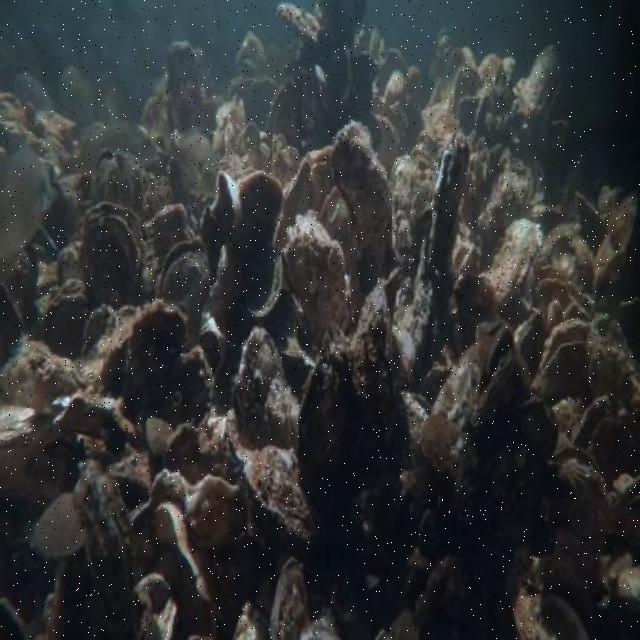Oyster-Closed: (73, 463, 137, 640), (296, 323, 354, 491), (331, 122, 391, 282), (240, 447, 317, 568), (284, 215, 348, 346), (232, 327, 297, 453), (353, 279, 397, 445), (128, 302, 183, 411), (148, 348, 213, 430), (485, 220, 544, 306), (553, 459, 610, 536), (590, 346, 640, 421), (238, 173, 283, 253), (271, 553, 312, 640), (167, 42, 202, 133), (33, 491, 83, 553), (42, 295, 87, 363), (504, 398, 554, 457), (319, 190, 354, 274), (532, 594, 590, 640), (394, 391, 432, 460), (587, 419, 636, 472), (421, 414, 463, 473), (428, 556, 468, 614), (574, 397, 616, 450), (0, 402, 51, 445), (269, 84, 301, 146), (153, 206, 186, 264), (59, 66, 92, 122), (575, 191, 607, 246), (276, 4, 319, 43), (251, 76, 282, 130), (13, 73, 56, 111), (92, 150, 120, 207), (607, 193, 637, 246), (141, 176, 174, 223), (137, 573, 170, 612), (551, 447, 600, 469), (57, 247, 86, 284), (271, 147, 299, 185), (146, 417, 173, 453), (475, 335, 495, 374), (140, 612, 163, 640), (419, 511, 433, 555), (0, 94, 22, 120), (49, 111, 75, 133), (271, 134, 287, 160)
Oyster-Open: (81, 201, 147, 310), (157, 237, 212, 350), (532, 321, 592, 401), (535, 264, 596, 328), (228, 77, 256, 124), (627, 476, 640, 505)
